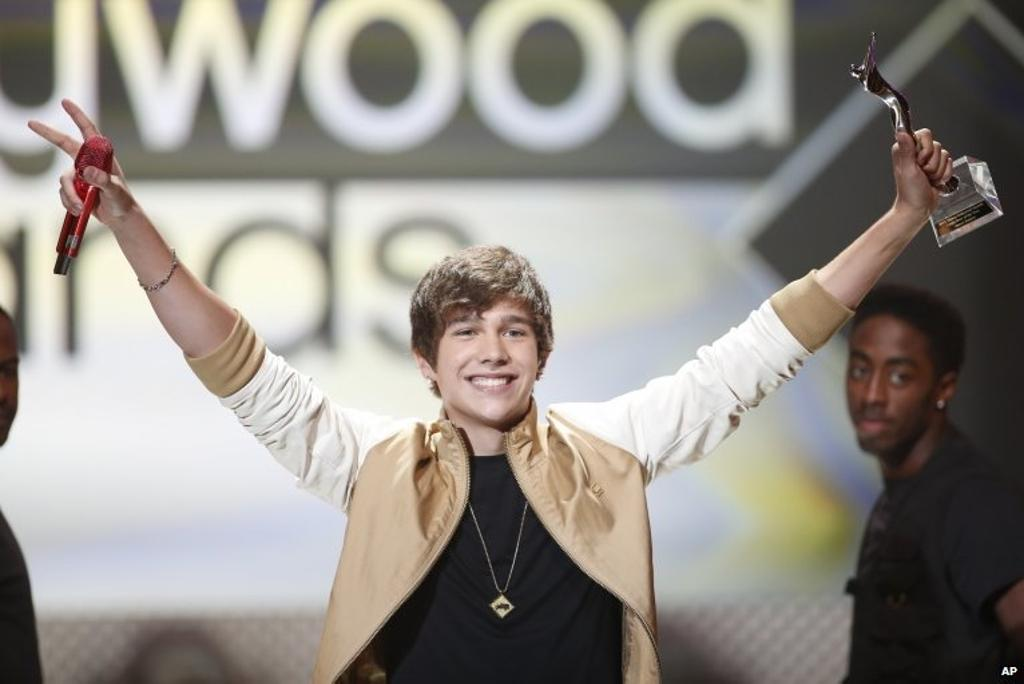face: (438, 284, 540, 422), (848, 314, 934, 454)
